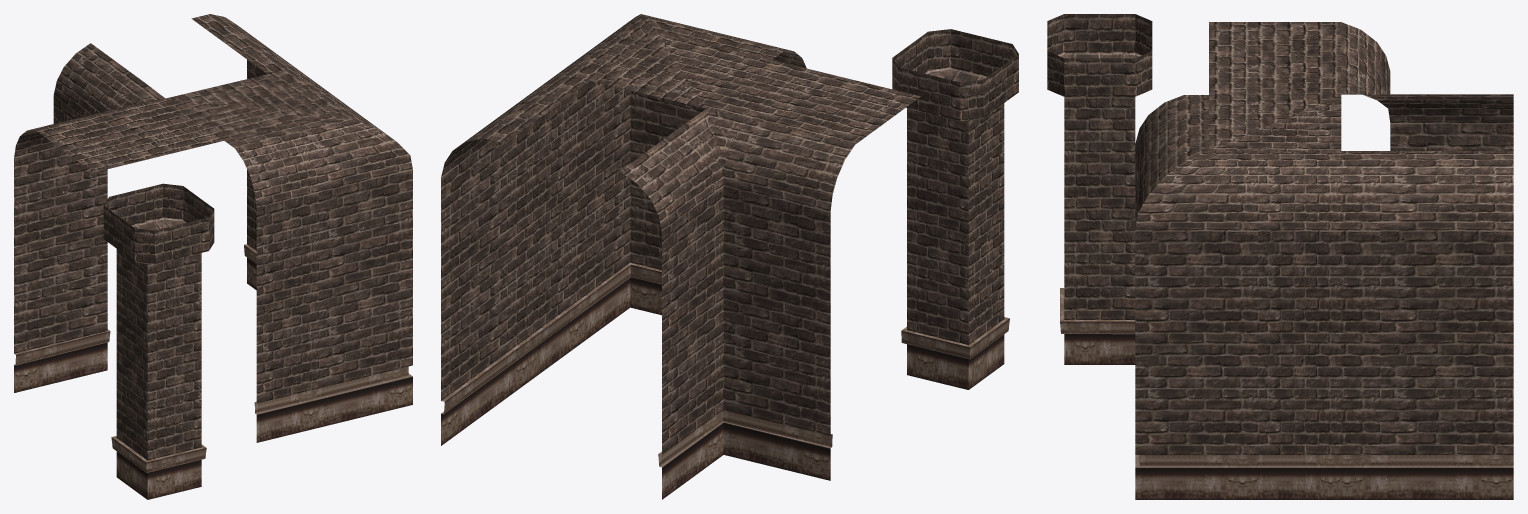
The model's file is underground.fbx.
3 views of the same model, side by side, from view 1: azimuth 30°, elevation 25°; view 2: azimuth 150°, elevation 25°; view 3: azimuth 270°, elevation 25° (orthographic). The views are drawn at different scales.
Visible parts, largest first — view 1: underground_ugol, underground_colonel, underground_ugol_inside, underground_top, underground_wall; view 2: underground_ugol_inside, underground_ugol, underground_colonel, underground_wall, underground_top; view 3: underground_ugol, underground_wall, underground_colonel, underground_ugol_inside, underground_top.
Part boxes in pixels (bbox=[...]): underground_ugol: bbox=[167, 69, 412, 442]; underground_colonel: bbox=[103, 183, 214, 499]; underground_ugol_inside: bbox=[14, 43, 165, 392]; underground_top: bbox=[36, 98, 223, 172]; underground_wall: bbox=[191, 14, 308, 290]; underground_ugol_inside: bbox=[620, 108, 854, 499]; underground_ugol: bbox=[527, 14, 806, 382]; underground_colonel: bbox=[892, 29, 1018, 389]; underground_wall: bbox=[441, 75, 590, 445]; underground_top: bbox=[706, 60, 920, 144]; underground_ugol: bbox=[1135, 95, 1341, 499]; underground_wall: bbox=[1341, 151, 1513, 499]; underground_colonel: bbox=[1047, 14, 1152, 364]; underground_ugol_inside: bbox=[1341, 22, 1513, 150]; underground_top: bbox=[1209, 22, 1341, 94].
Size of the model in its own units: 661 by 756 by 569.
